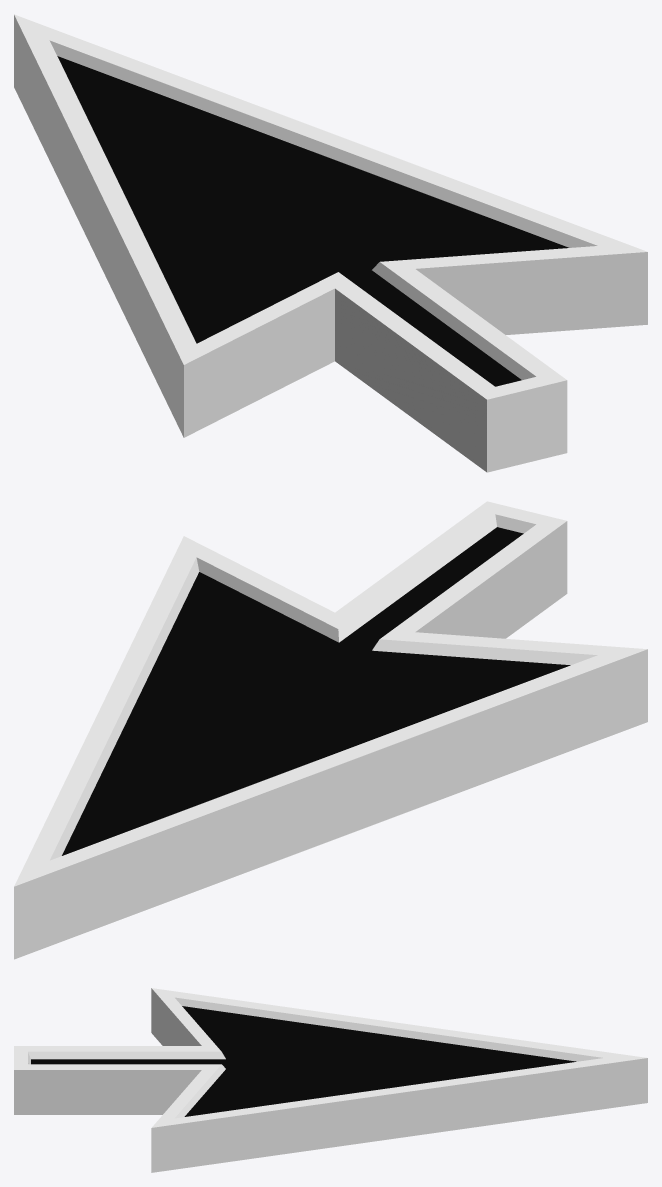
The model's file is Cursor.fbx.
3 renders of one model, top to bottom at view 1: azimuth 30°, elevation 25°; view 2: azimuth 150°, elevation 25°; view 3: azimuth 270°, elevation 25°, orthographic. The views are drawn at different scales.
Visible parts, largest first — view 1: Plane; view 2: Plane; view 3: Plane.
Boxes of the visible parts, box(x1,y1,x2,y2) form: Plane: box(14, 14, 647, 472); Plane: box(14, 501, 647, 959); Plane: box(14, 988, 647, 1172).
Bounding box in the file's own units: 200 × 30.01 × 383.
